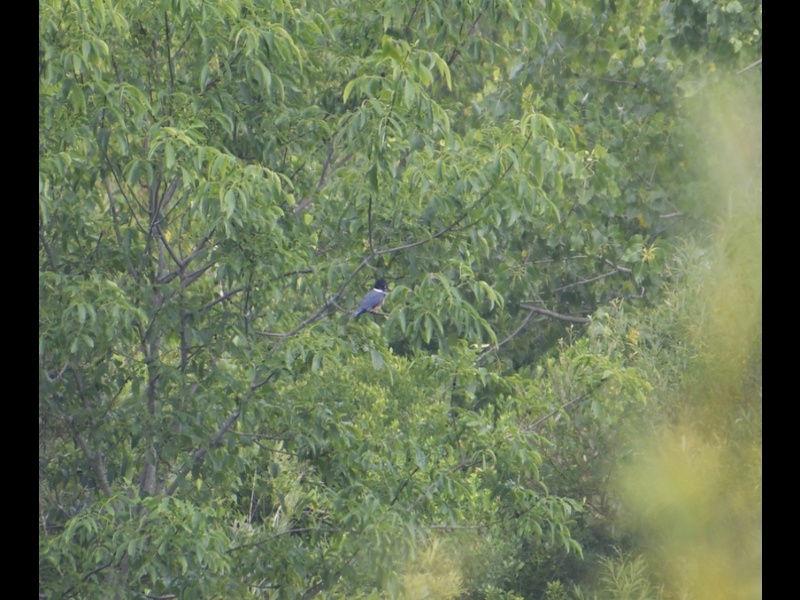kingfisher: (353, 277, 391, 322)
